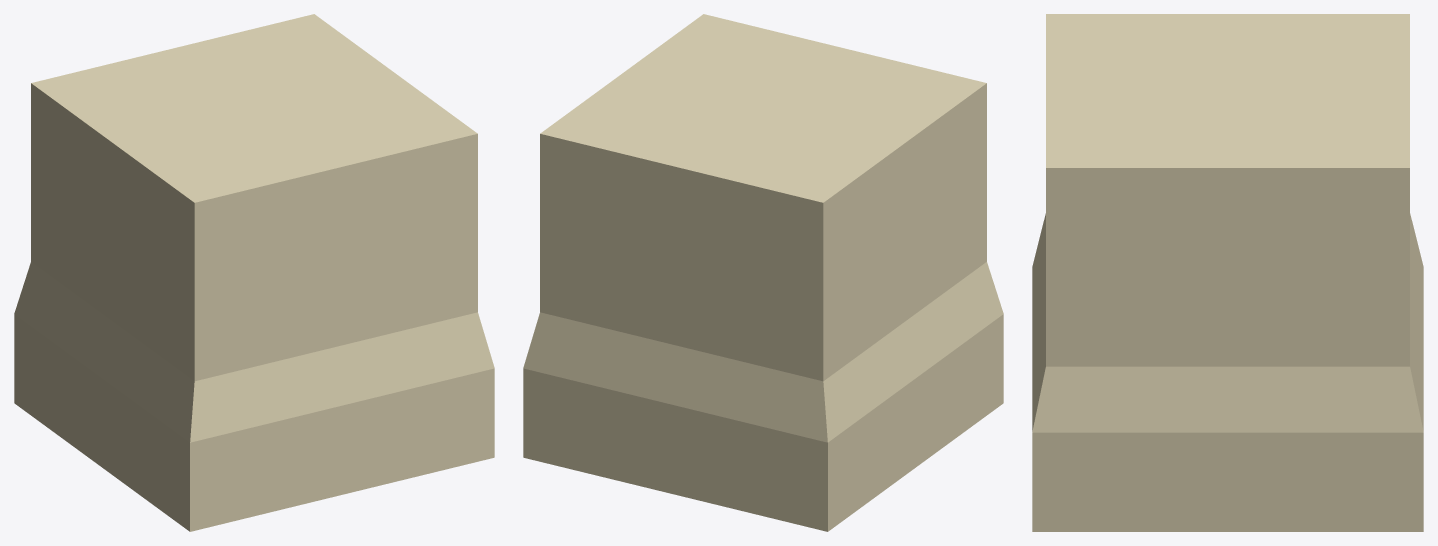
File: towersquarebase.glb
3 renders of one model, left to right at view 1: azimuth 30°, elevation 25°; view 2: azimuth 150°, elevation 25°; view 3: azimuth 270°, elevation 25°, orthographic. The views are drawn at different scales.
Parts seen in each view (by area): view 1: towerSquareBase; view 2: towerSquareBase; view 3: towerSquareBase.
Boxes of the visible parts, x1=… form: towerSquareBase: x1=14, y1=14, x2=494, y2=531; towerSquareBase: x1=523, y1=14, x2=1003, y2=531; towerSquareBase: x1=1032, y1=14, x2=1423, y2=531.
Bounding box in the file's own units: 10 × 10.1 × 10.
